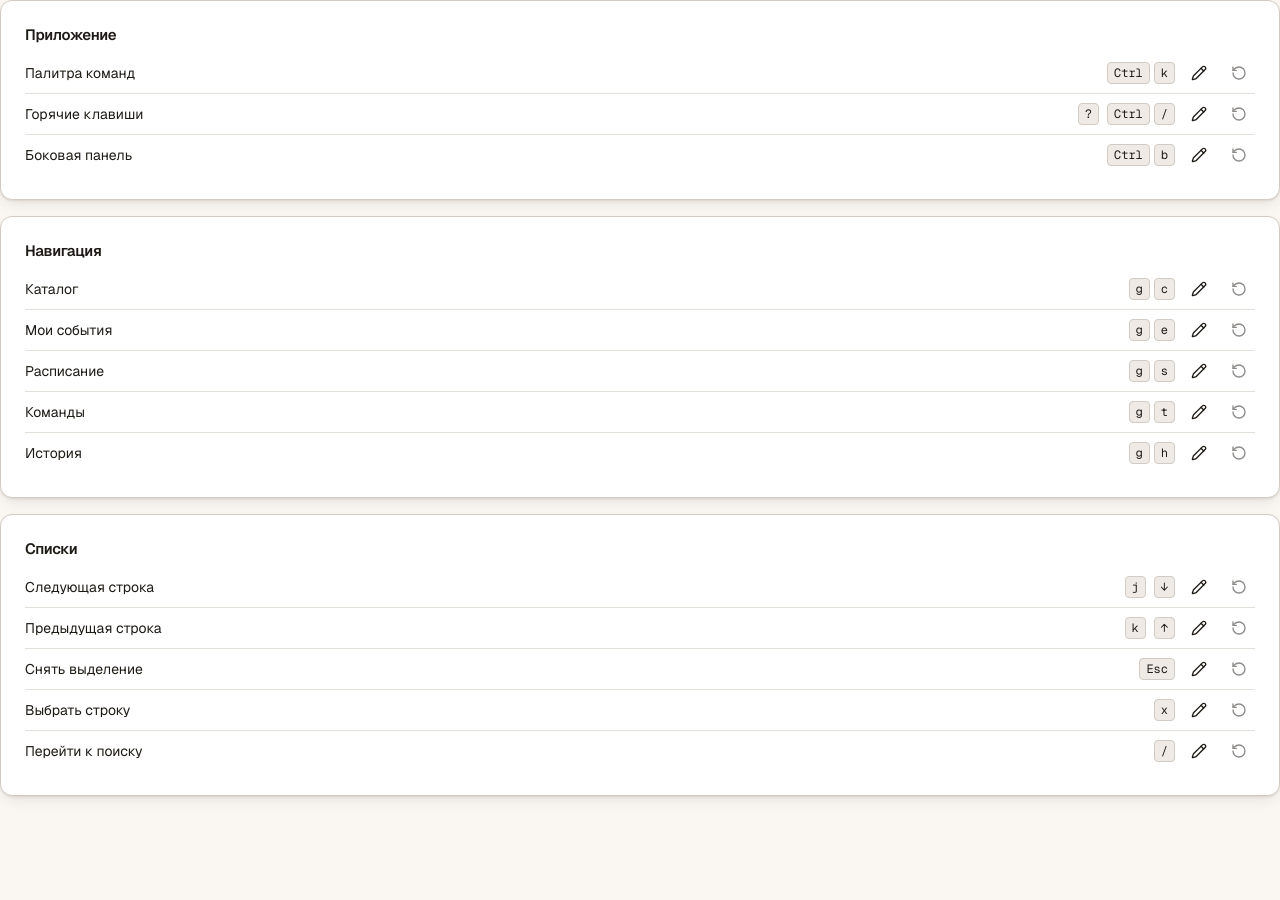
it: only one row records at a time › leaves the row that lost the recording showing its own keys again
This screenshot has width=1280, height=900.
Click the button named "Изменить «Палитра команд»" at (1199, 73), box [1183,57,1215,89]
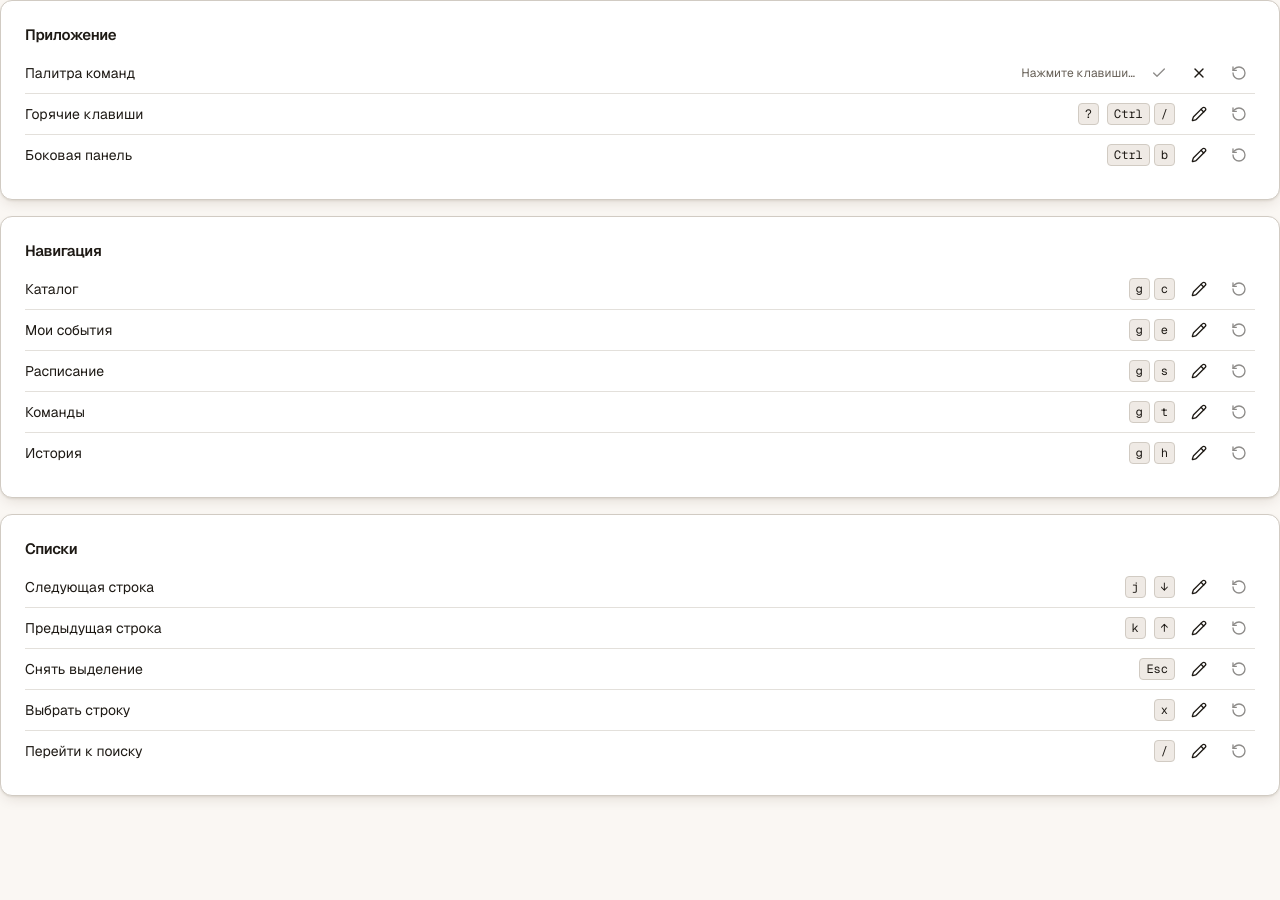
Type keys "{Control>}1{/Control}"
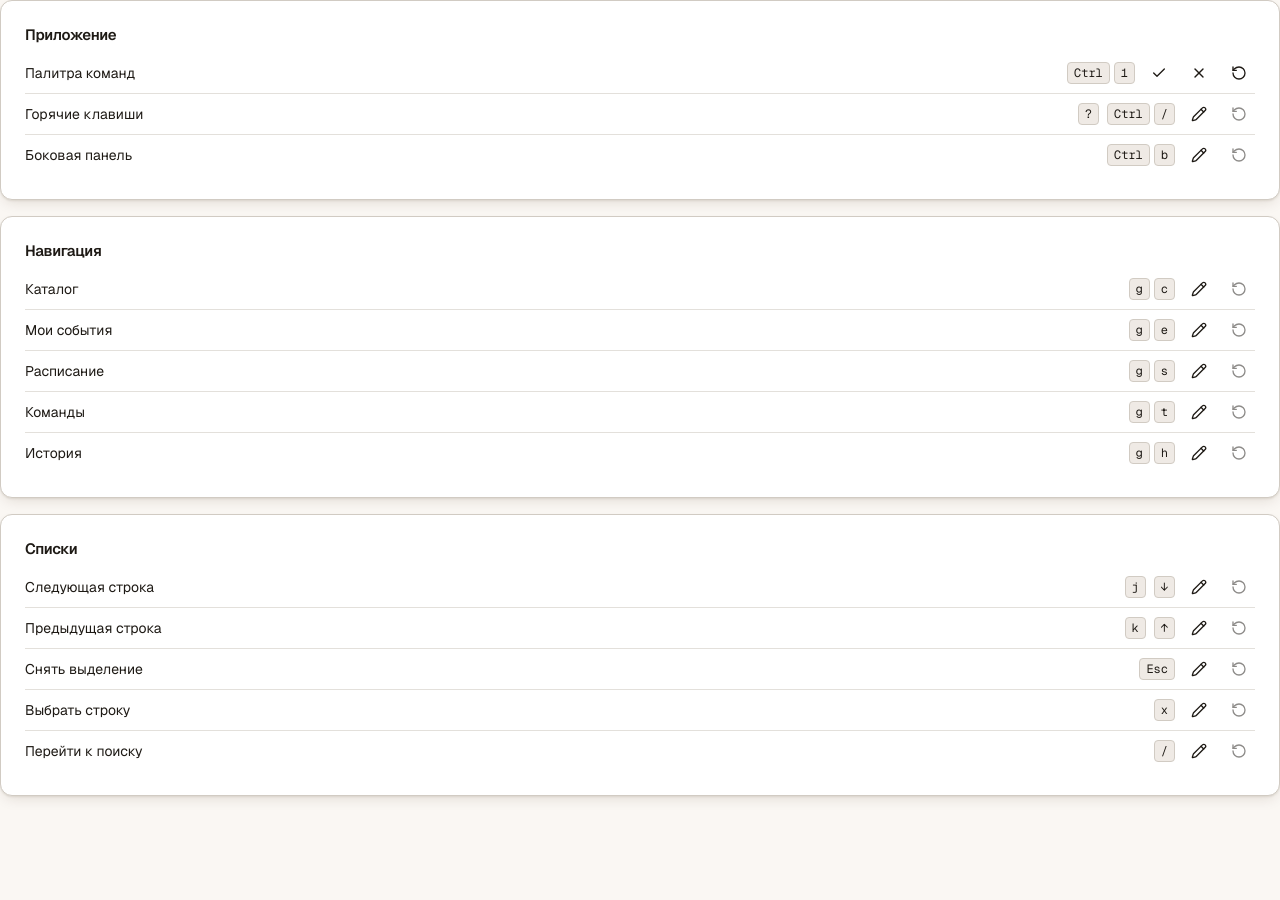
Click the button named "Изменить «Боковая панель»" at (1199, 155), box [1183,139,1215,171]
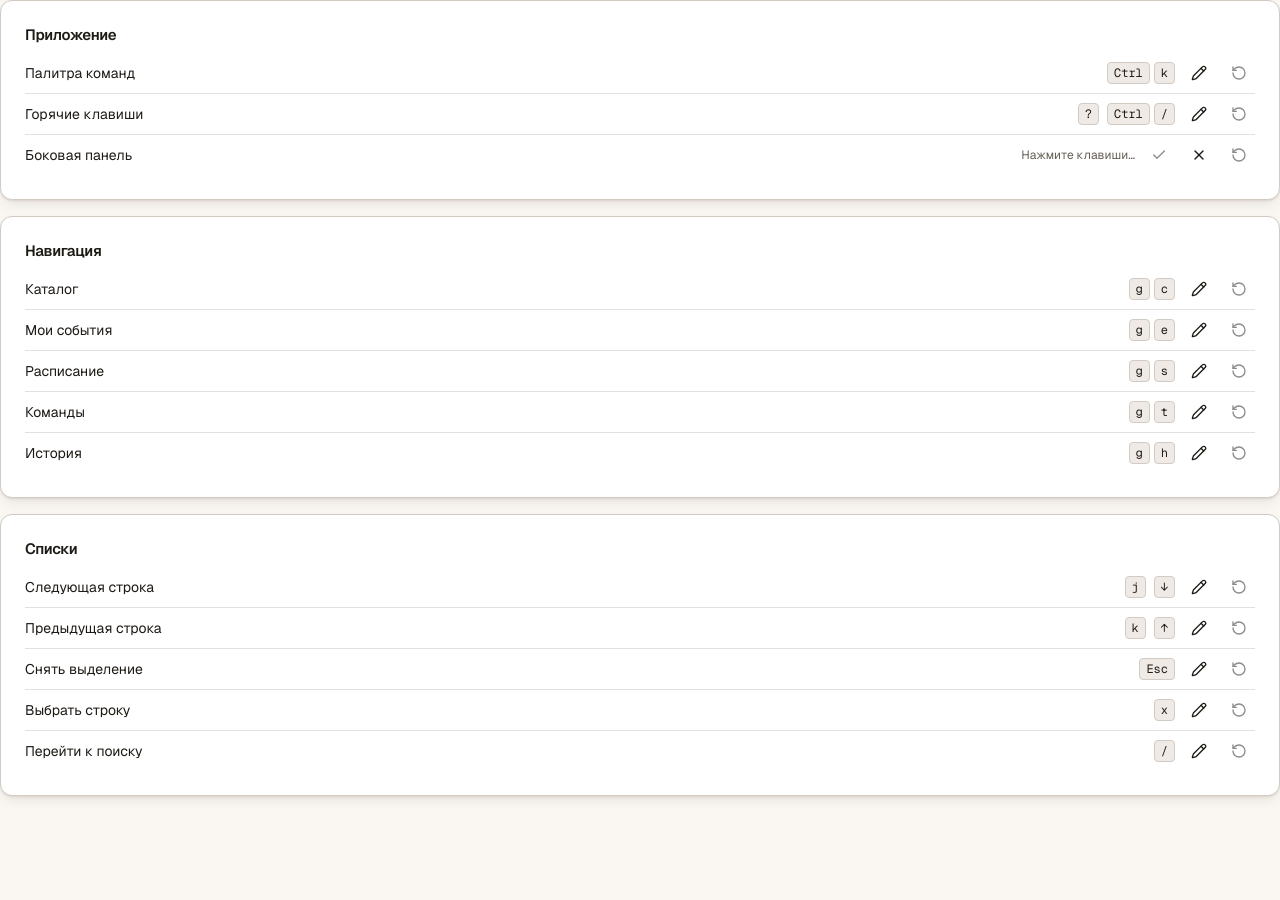
Check: the text "k" in the row of "Палитра команд" is shown, box [1161,65,1168,81]
Check: the text "1" is gone
